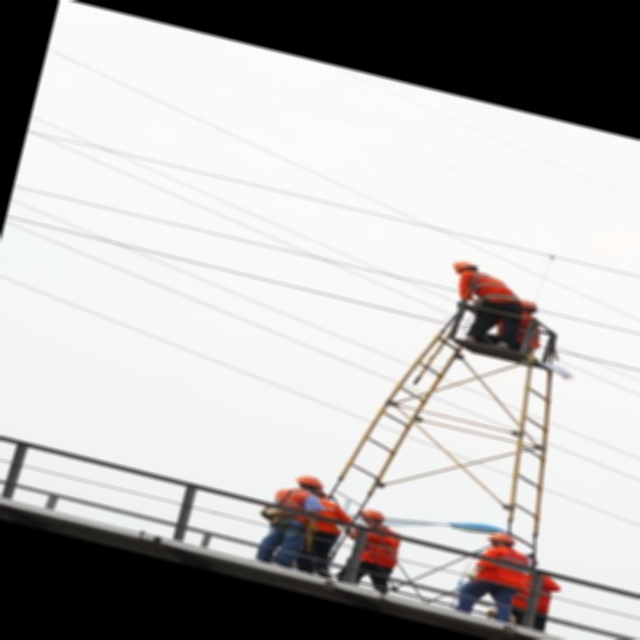Con_Chaleco: (472, 543, 535, 593), (458, 268, 521, 307), (273, 484, 325, 525)
